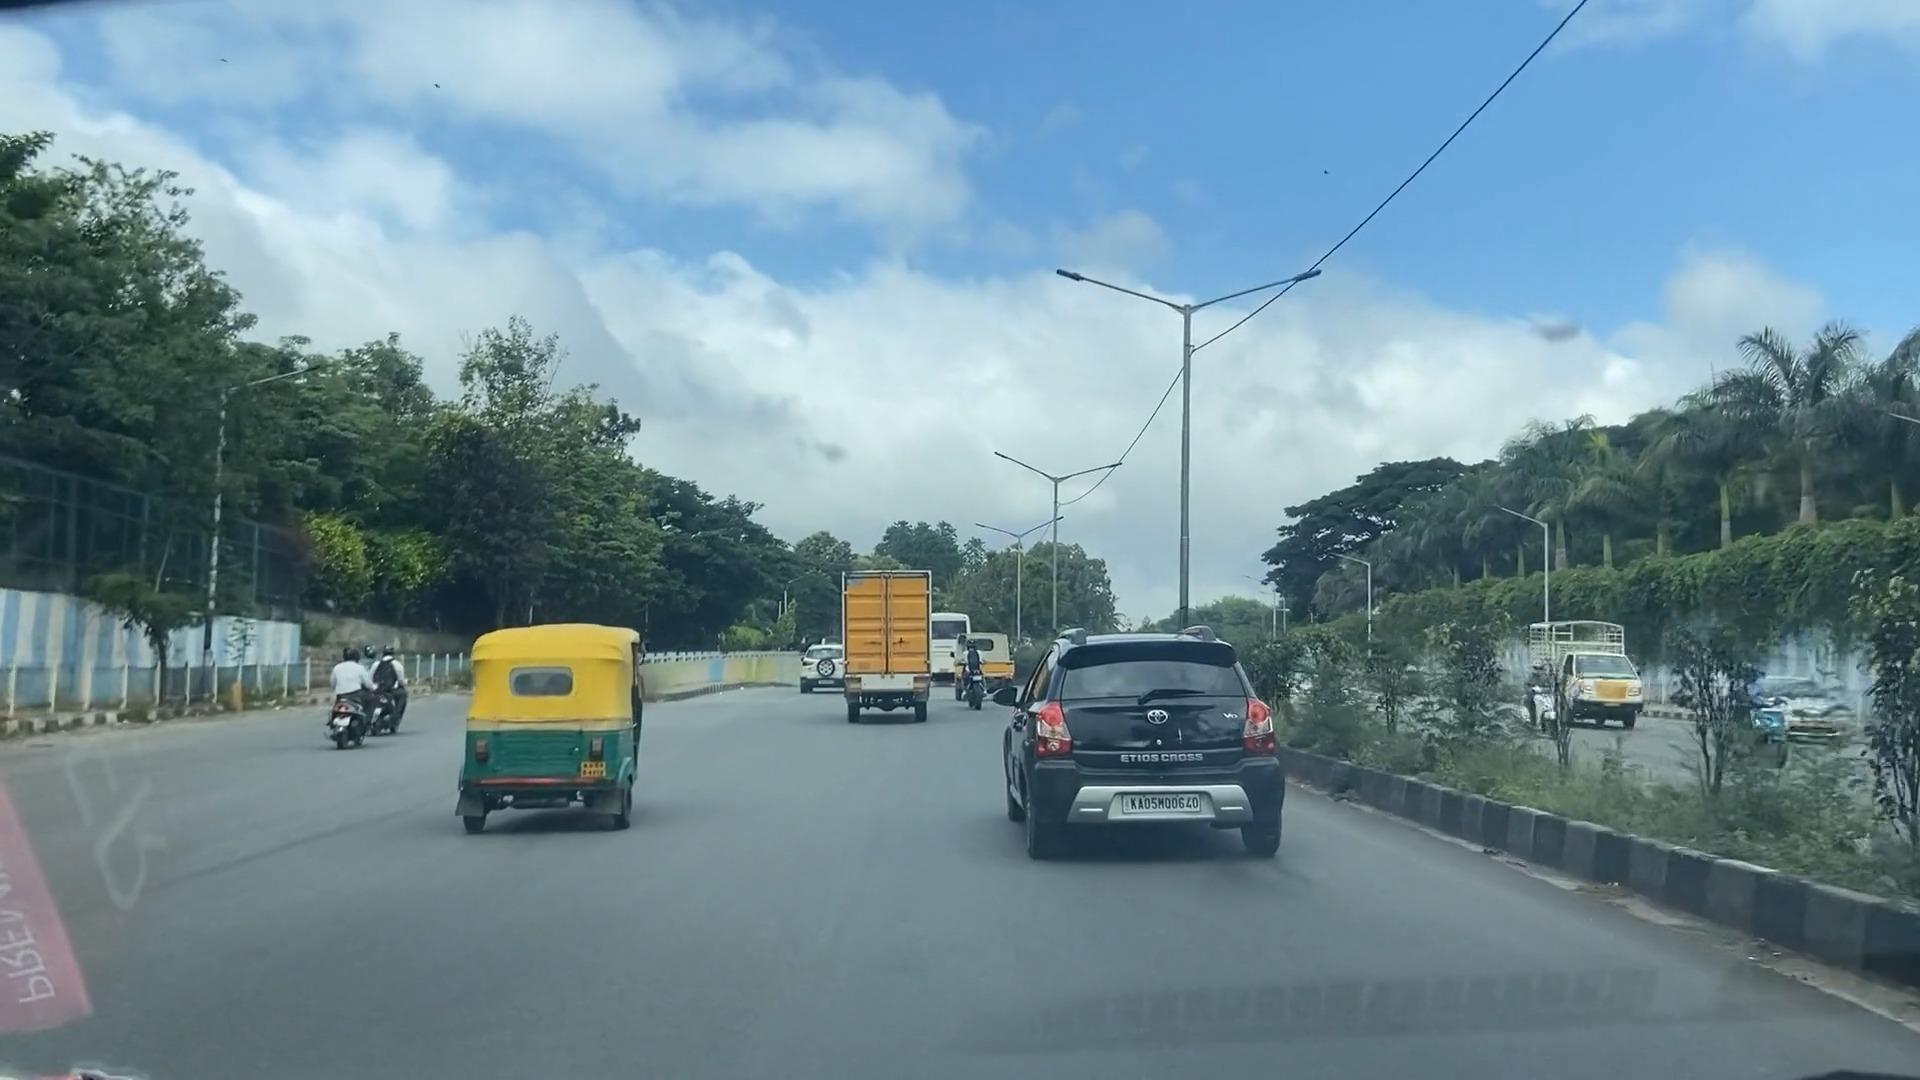HMV: (841, 566, 938, 715)
LMV: (996, 617, 1291, 877), (455, 626, 651, 833)
